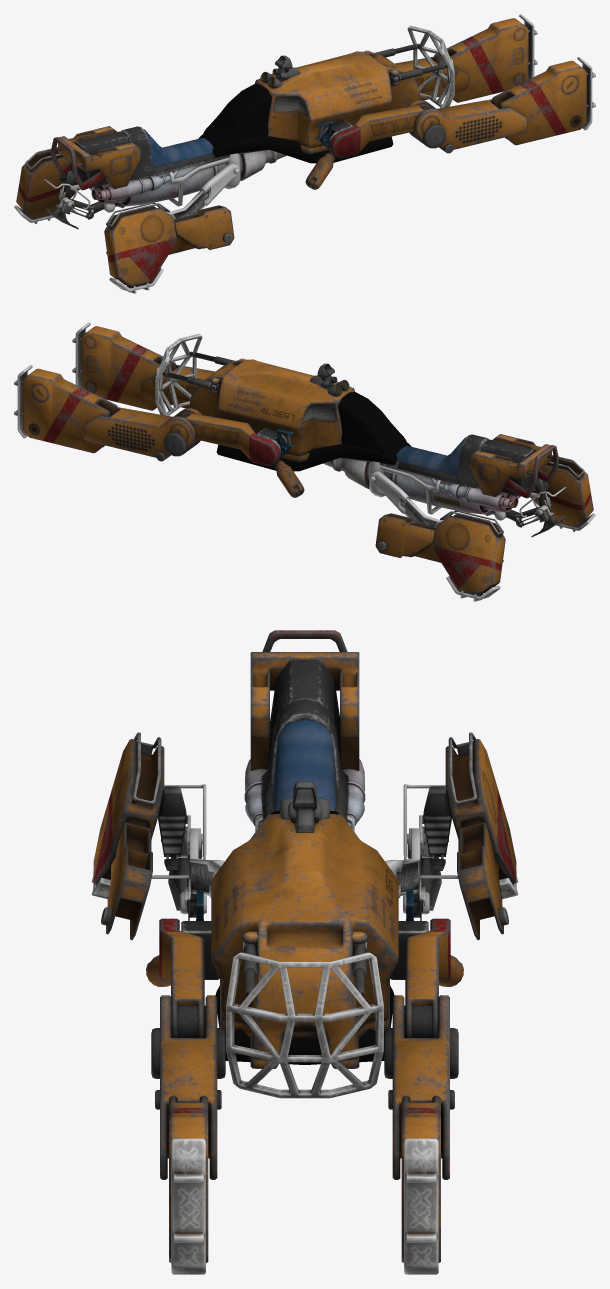
Rendered from model-destiny-sparrow.glb.
3 renders of one model, top to bottom at view 1: azimuth 30°, elevation 25°; view 2: azimuth 150°, elevation 25°; view 3: azimuth 270°, elevation 25°, orthographic. The views are drawn at different scales.
Visible parts, largest first — view 1: Sparrow_albertjulia; view 2: Sparrow_albertjulia; view 3: Sparrow_albertjulia.
Part boxes in pixels (bbox=[...]): Sparrow_albertjulia: bbox=[14, 14, 595, 293]; Sparrow_albertjulia: bbox=[14, 322, 595, 601]; Sparrow_albertjulia: bbox=[91, 630, 518, 1274].
Bounding box in the file's own units: 4.54 × 1.31 × 1.67.
Materials: 1 (1 with a texture image).
